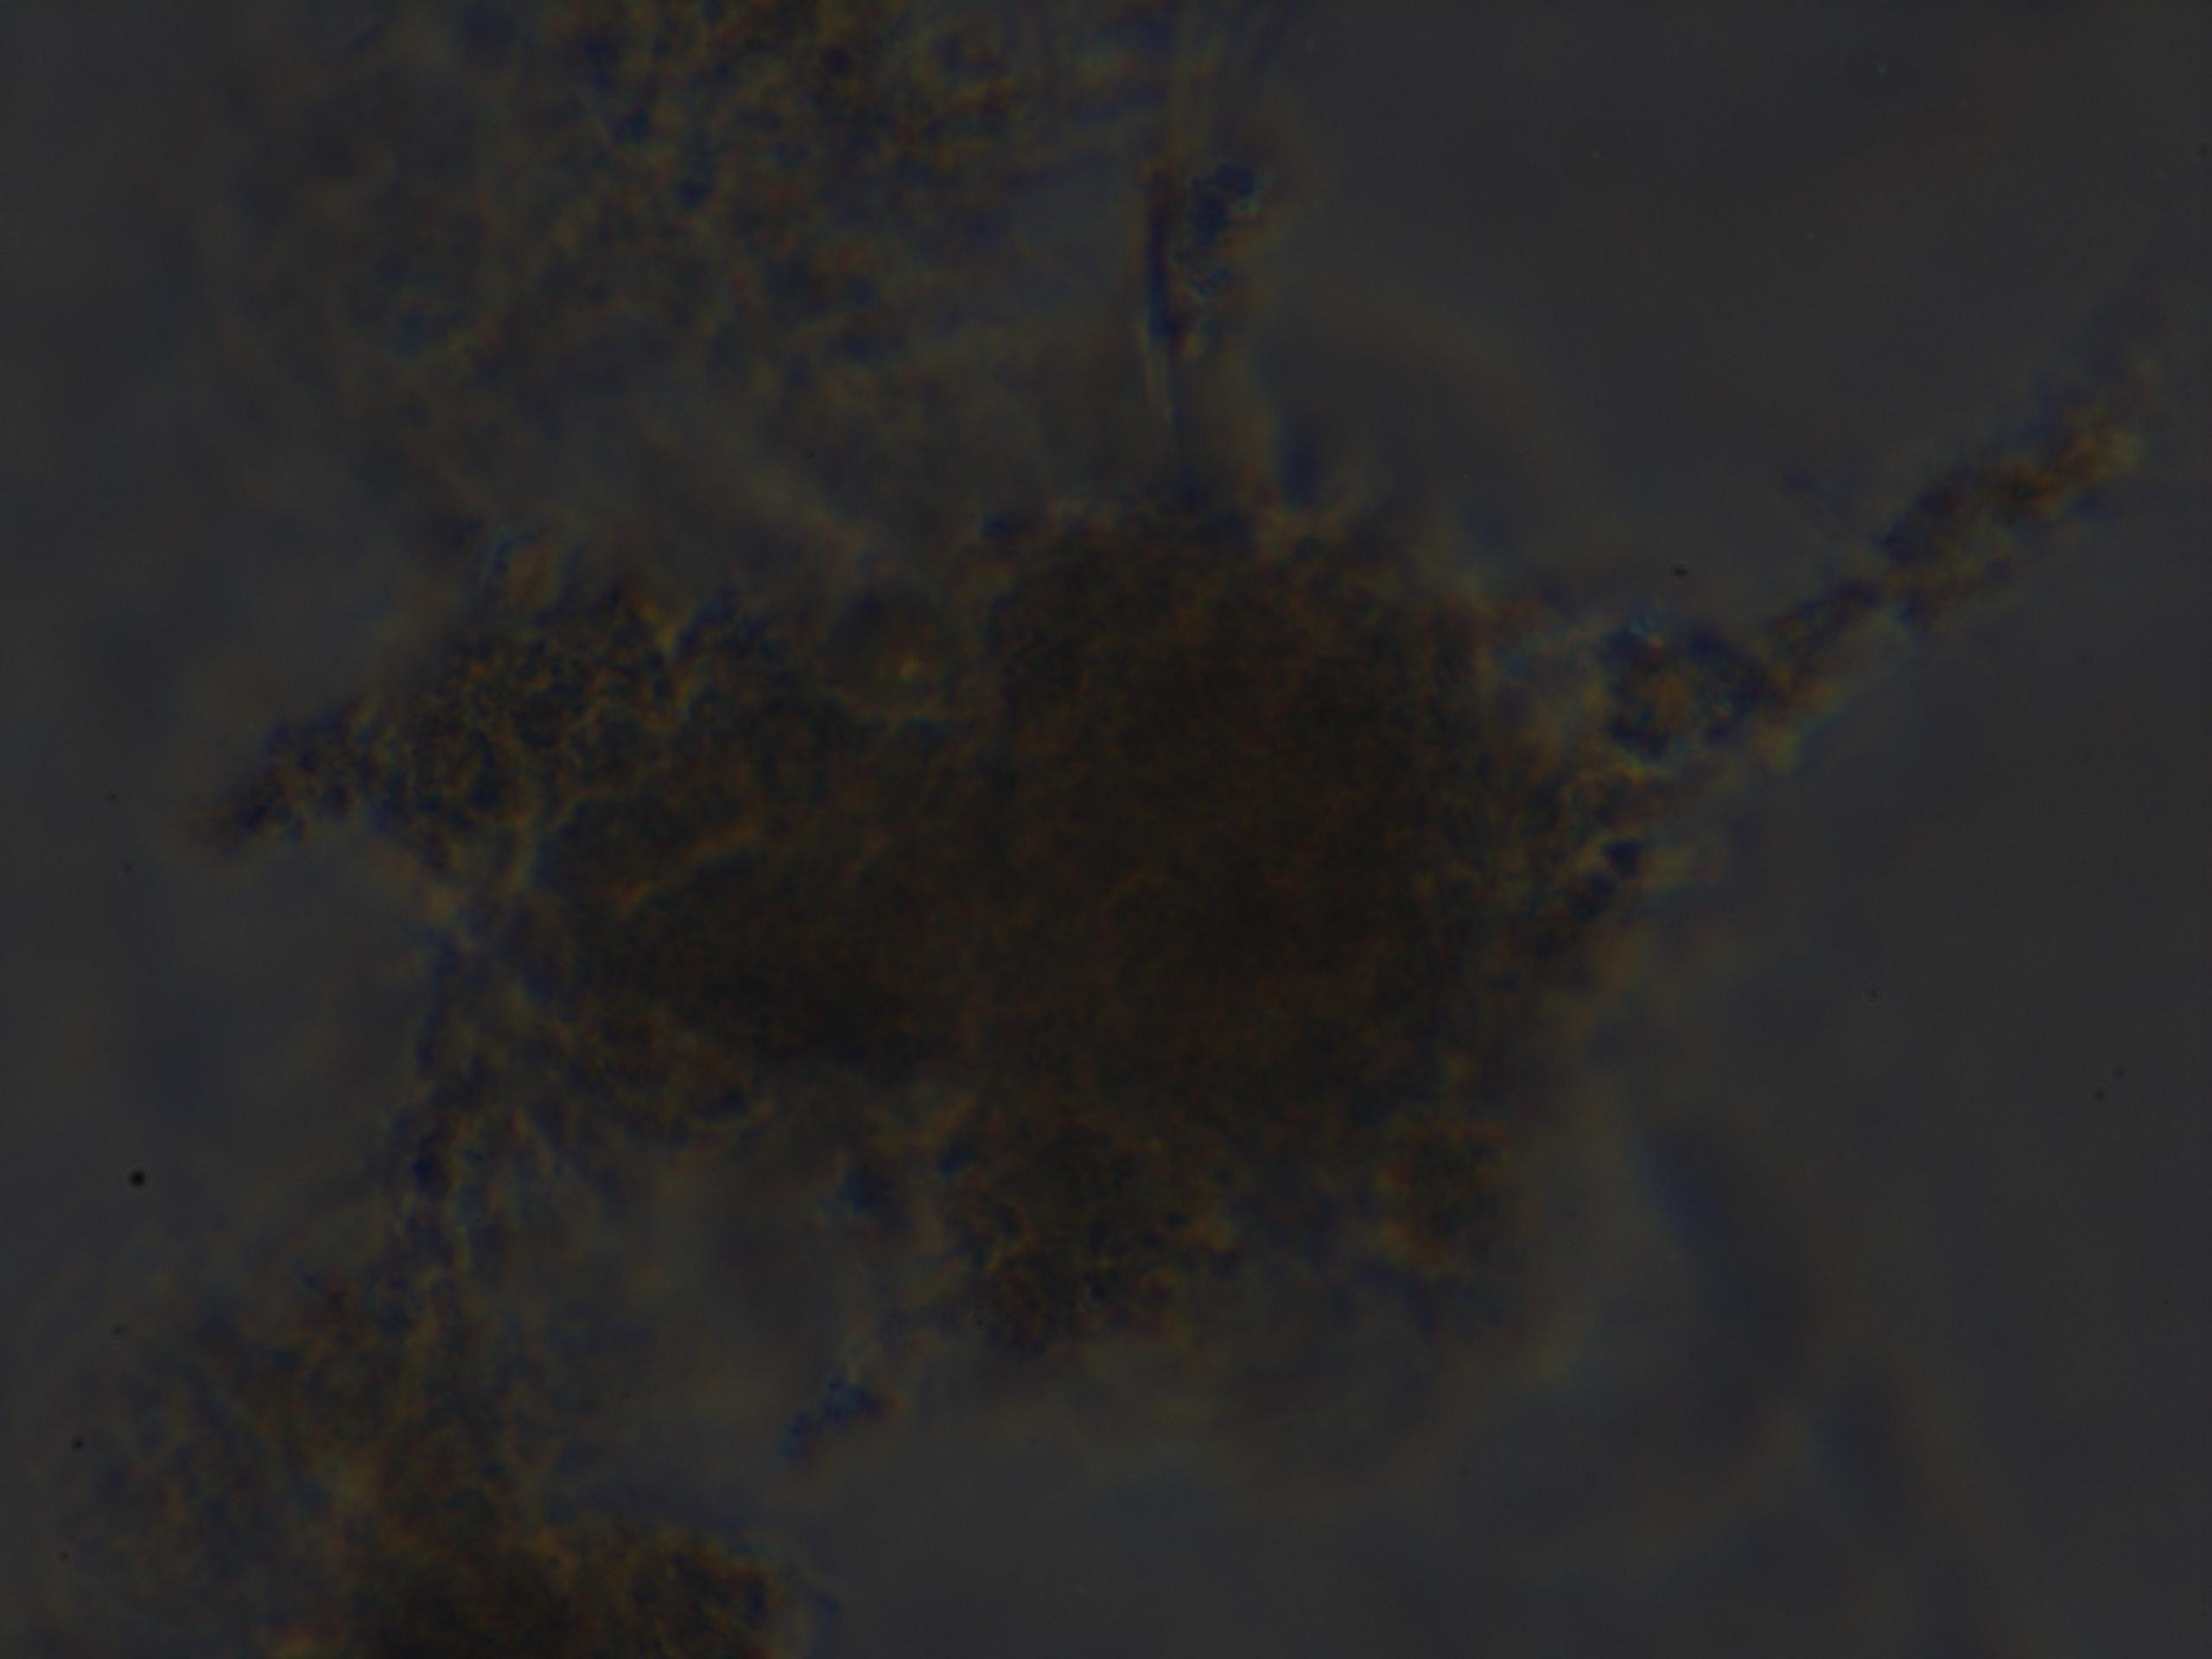filament: (1689, 263, 2177, 854)
